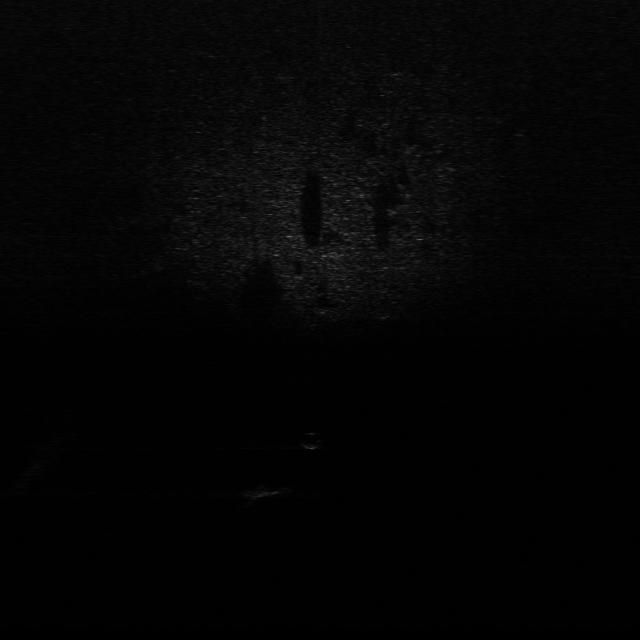ball: (293, 429, 327, 452)
square cage: (241, 482, 293, 502)
tyre: (362, 287, 401, 320)
